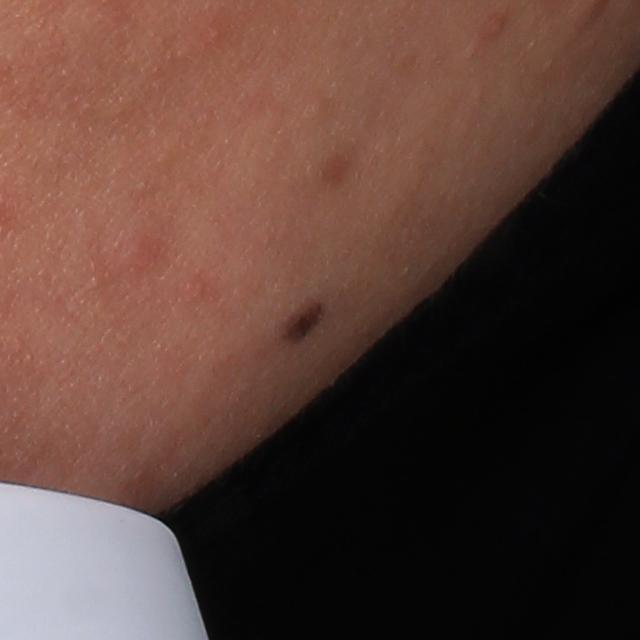nevus: (273, 297, 329, 348)
papule: (474, 10, 512, 44)
